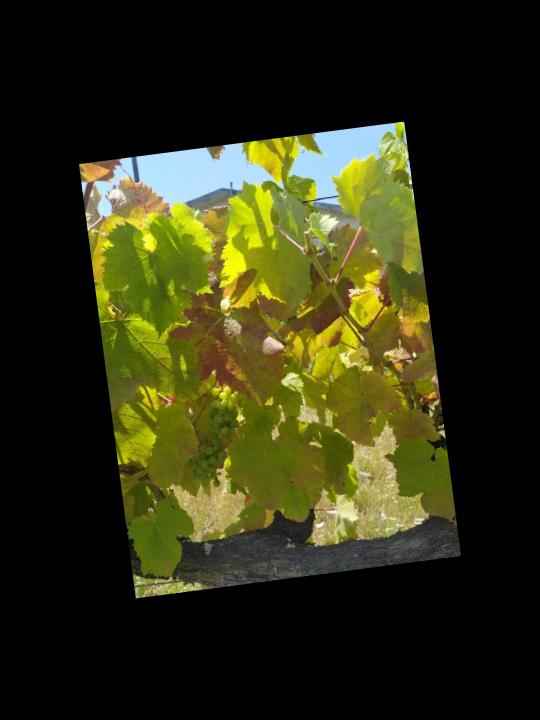grape: (176, 381, 251, 494)
